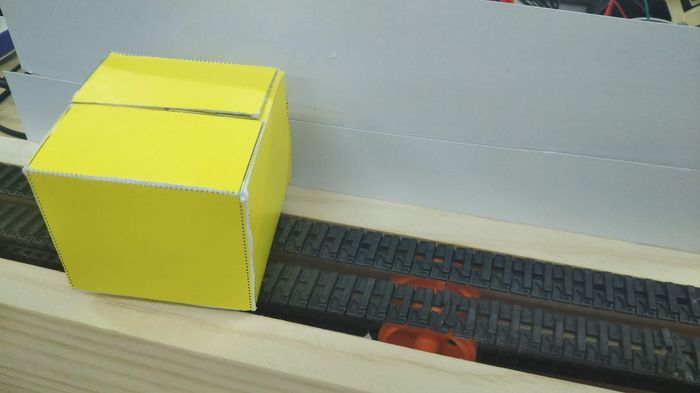box4: (19, 46, 294, 316)
